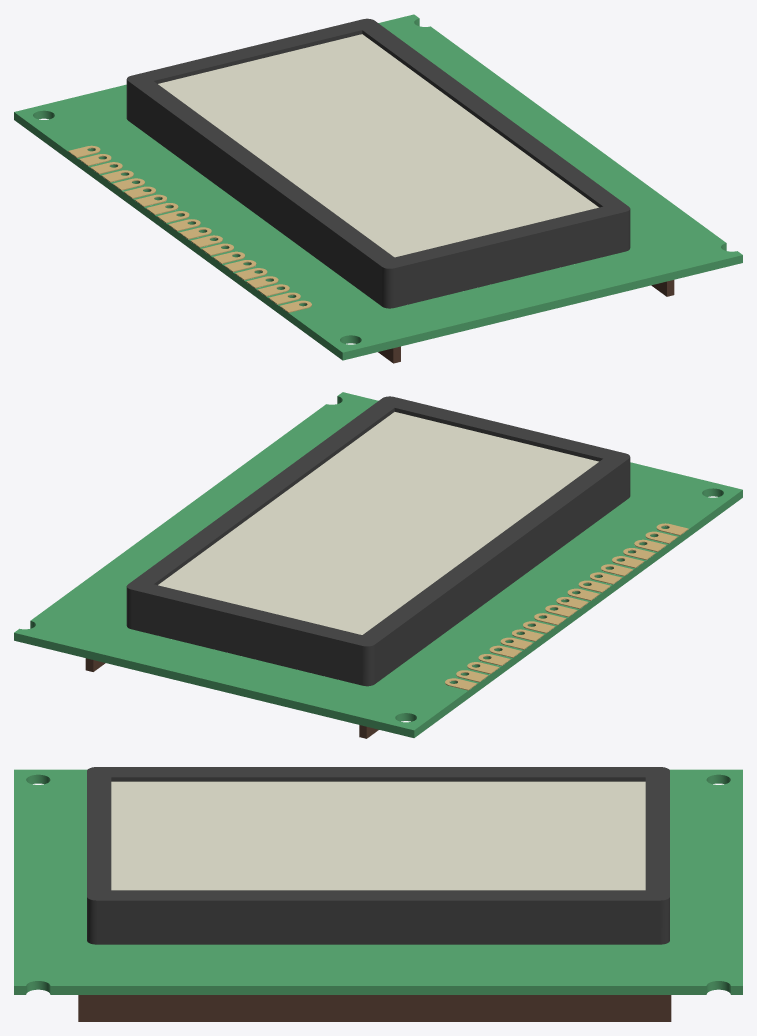
The picture shows the model from 3 angles, top to bottom: view 1: azimuth 30°, elevation 25°; view 2: azimuth 150°, elevation 25°; view 3: azimuth 270°, elevation 25°; orthographic projection. The views are drawn at different scales.
Parts seen in each view (by area): view 1: 0.08333333333333333_0.4166666666666667_0.16666666666666666_0, 0.75_0.75_0.6666666666666666_0, 0.08333333333333333_0.08333333333333333_0.08333333333333333_, 0.75_0.5_0.25_0.9; view 2: 0.08333333333333333_0.4166666666666667_0.16666666666666666_0, 0.75_0.75_0.6666666666666666_0, 0.08333333333333333_0.08333333333333333_0.08333333333333333_, 0.75_0.5_0.25_0.9; view 3: 0.08333333333333333_0.4166666666666667_0.16666666666666666_0, 0.75_0.75_0.6666666666666666_0, 0.08333333333333333_0.08333333333333333_0.08333333333333333_, 0.08333333333333333_0.08333333333333333_0_0.
Boxes of the visible parts, x1,y1,x2,y2 form: 0.08333333333333333_0.4166666666666667_0.16666666666666666_0: [14, 14, 742, 360]; 0.75_0.75_0.6666666666666666_0: [158, 34, 598, 257]; 0.08333333333333333_0.08333333333333333_0.08333333333333333_: [126, 18, 630, 308]; 0.75_0.5_0.25_0.9: [68, 145, 311, 312]; 0.08333333333333333_0.4166666666666667_0.16666666666666666_0: [14, 392, 742, 737]; 0.75_0.75_0.6666666666666666_0: [158, 412, 598, 634]; 0.08333333333333333_0.08333333333333333_0.08333333333333333_: [126, 396, 630, 686]; 0.75_0.5_0.25_0.9: [445, 523, 688, 690]; 0.08333333333333333_0.4166666666666667_0.16666666666666666_0: [14, 769, 742, 994]; 0.75_0.75_0.6666666666666666_0: [111, 781, 645, 890]; 0.08333333333333333_0.08333333333333333_0.08333333333333333_: [87, 767, 669, 944]; 0.08333333333333333_0.08333333333333333_0_0: [78, 995, 671, 1021].
Bounding box in the file's own units: 5.27 × 1.15 × 7.5.
